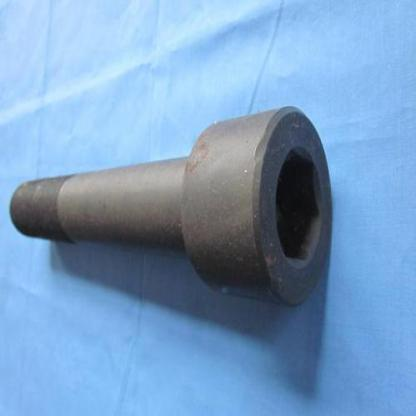FOD: (7, 102, 334, 312)
